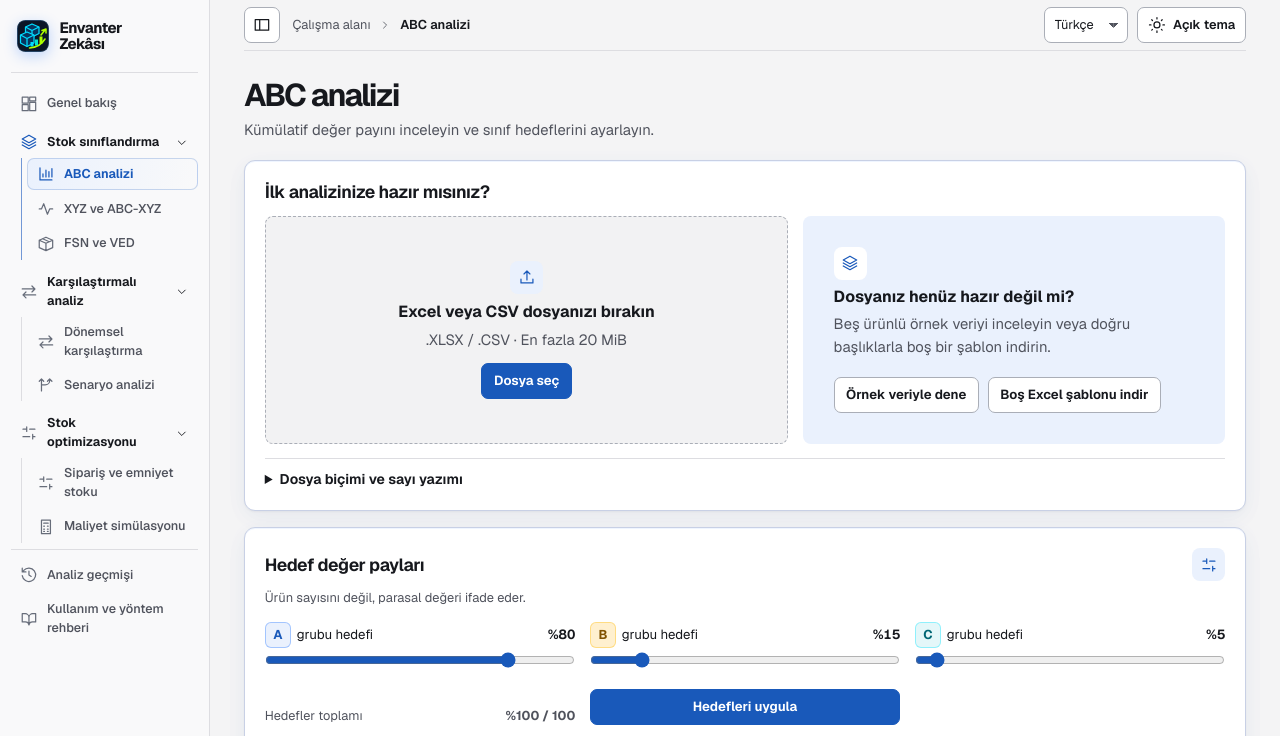
Gerçek React ekran entegrasyonu › Pareto filtreleri KPI, dağılım ve Excel girdisini değiştirmez
Later steps or results of the test are not shown.
Click the button "Örnek veriyle dene" at (906, 395), box [834,377,979,413]
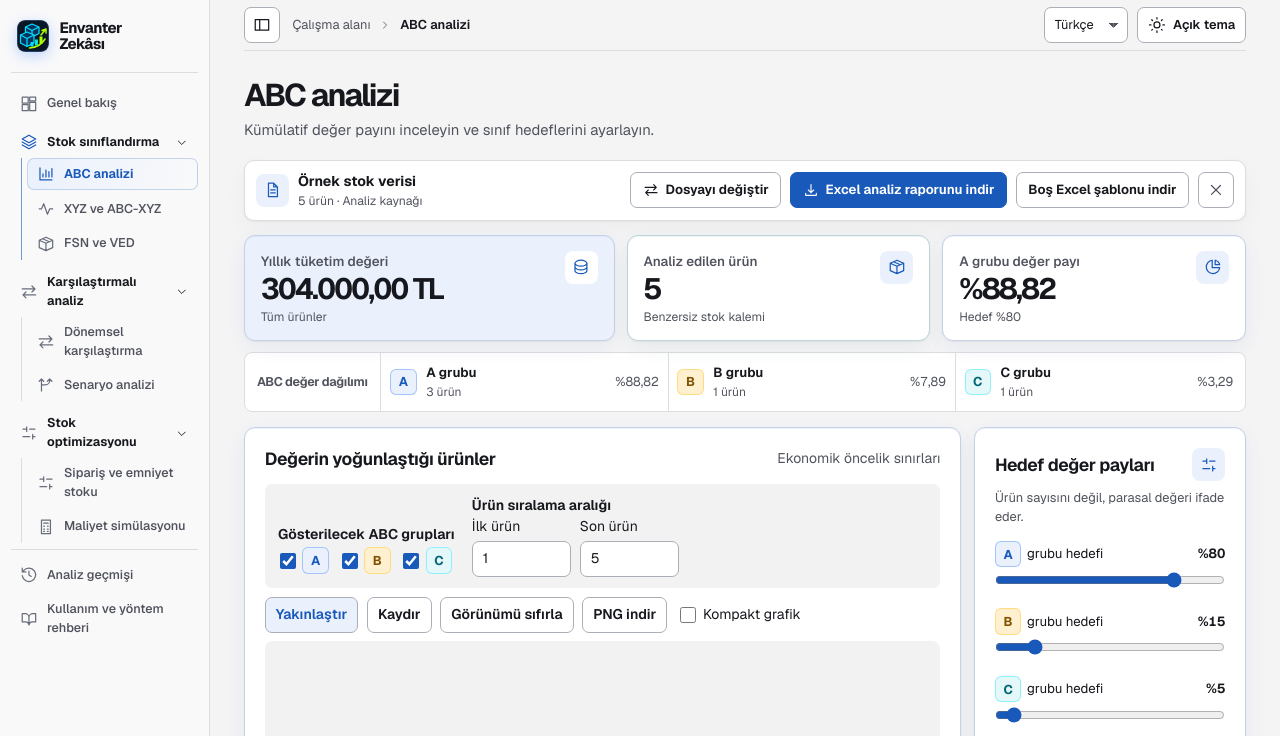
Expected: the element showing "Yıllık tüketim değeri 304.000,00 TL Tüm ürünler" is shown, [244,235,614,341]
Click the checkbox labelled "A" at (288, 560), box [280,552,296,568]
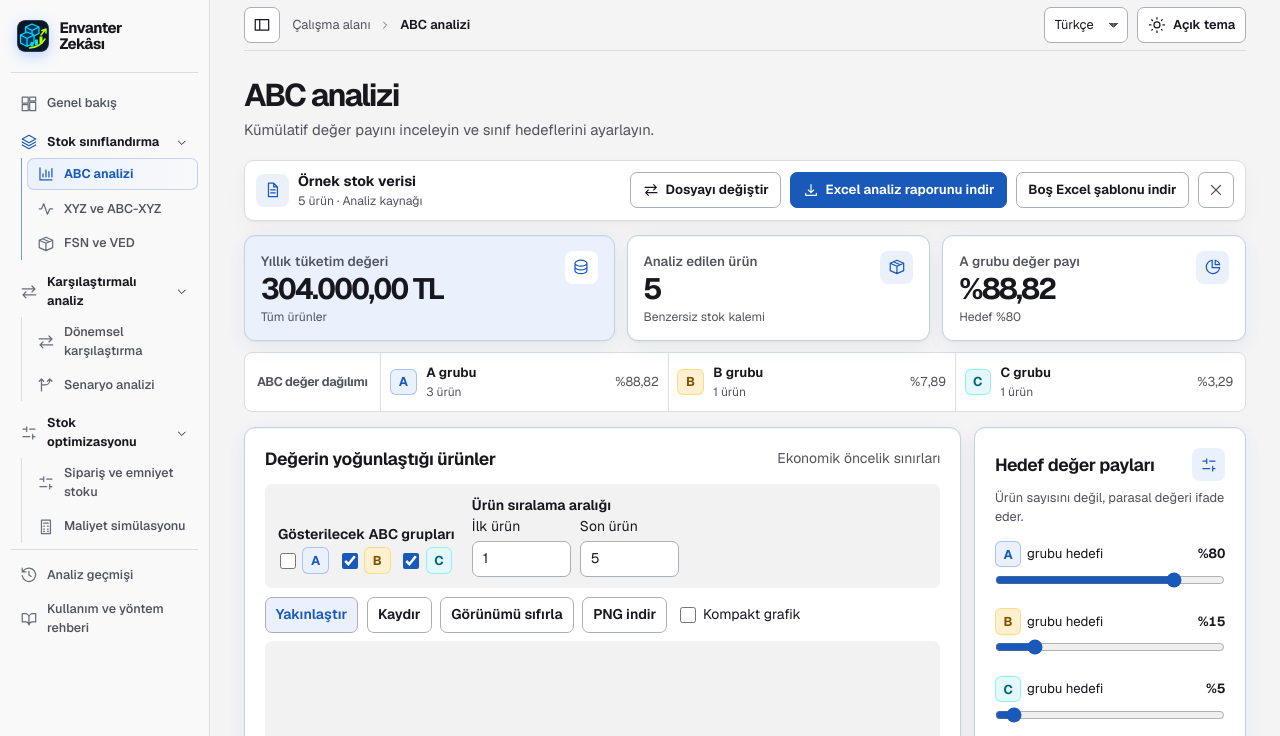
Click the checkbox labelled "B" at (350, 560), box [342,552,358,568]
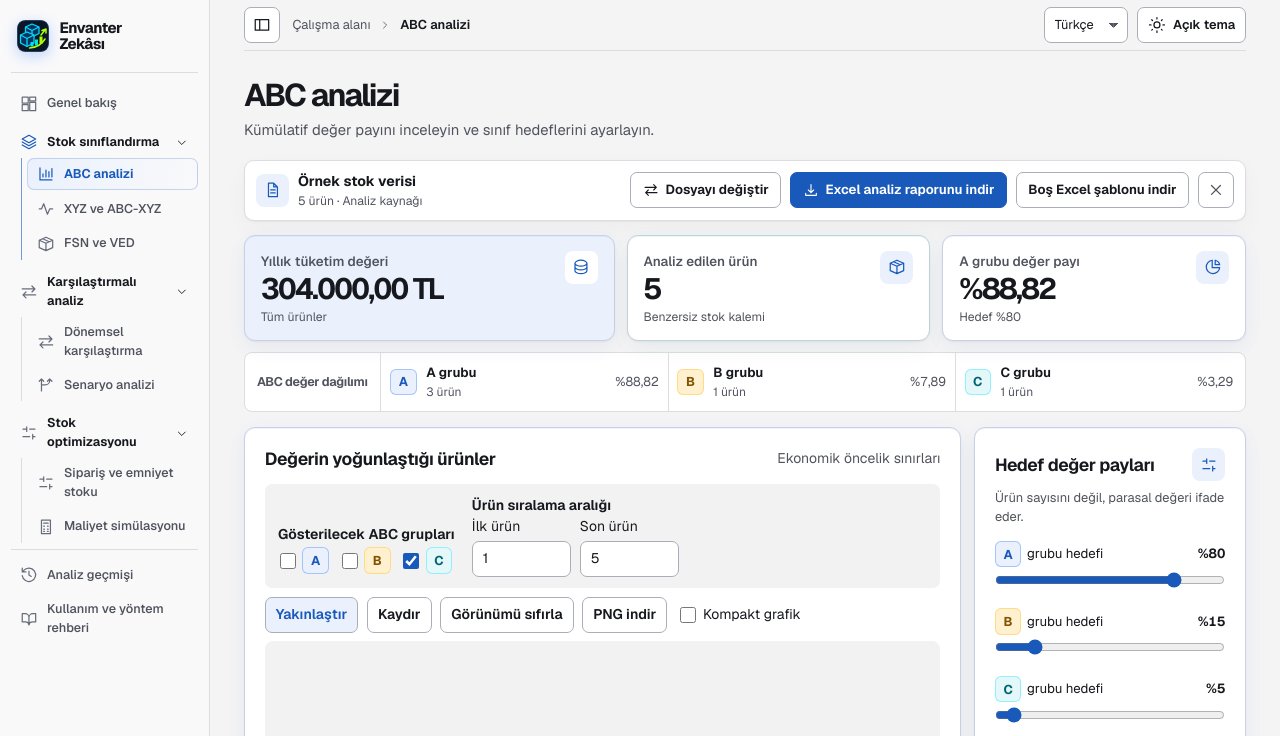
Click the checkbox labelled "C" at (411, 560), box [403,552,419,568]
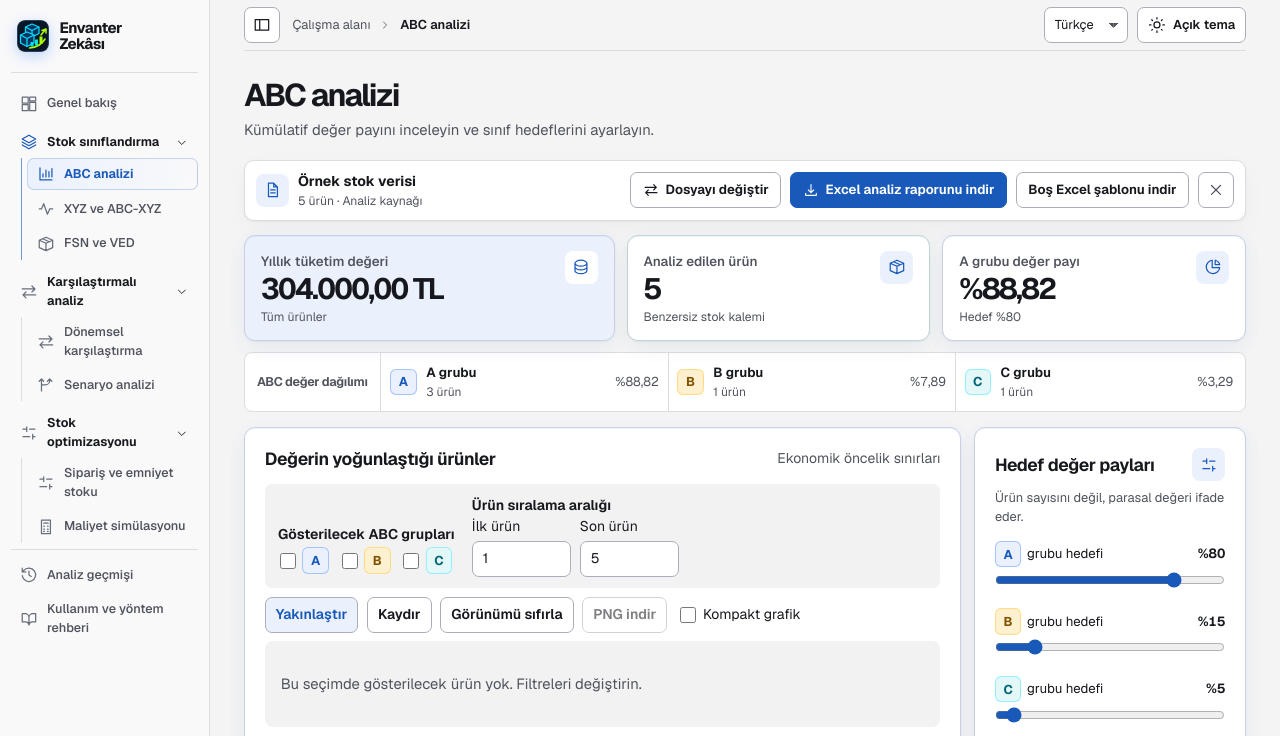
Expected: the message shows "gösterilecek ürün yok", [281,674,642,693]
